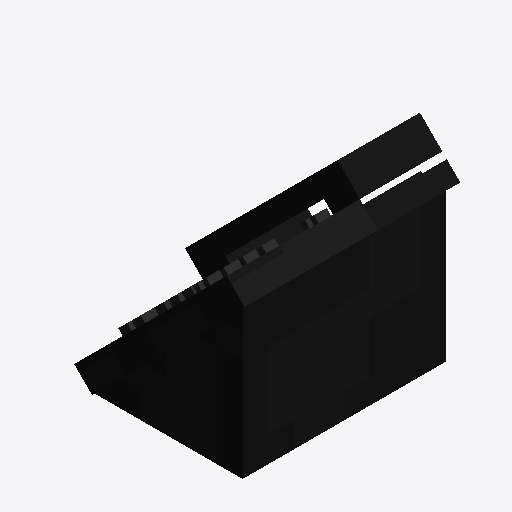
Isometric view (azimuth 45°, elevation 35.3°) of a Minecraft model made of 37 cuboids, textured from the same repository.
Visible parts, largest first — element 33, element 1, element 28, element 32, element 29, element 34, element 30, element 35, element 25, element 31, element 2, element 37.
Boxes of the visible parts, x1,y1,x2,y2 form: element 33: [217, 171, 445, 449]; element 1: [95, 333, 445, 478]; element 28: [79, 207, 376, 394]; element 32: [185, 113, 432, 271]; element 29: [365, 159, 459, 229]; element 34: [121, 364, 216, 434]; element 30: [324, 136, 441, 213]; element 35: [146, 350, 216, 404]; element 25: [209, 199, 363, 293]; element 31: [199, 209, 311, 278]; element 2: [74, 302, 185, 371]; element 37: [171, 335, 216, 375].
Bounding box in the file's own units: 8.5 × 7.75 × 7.6.